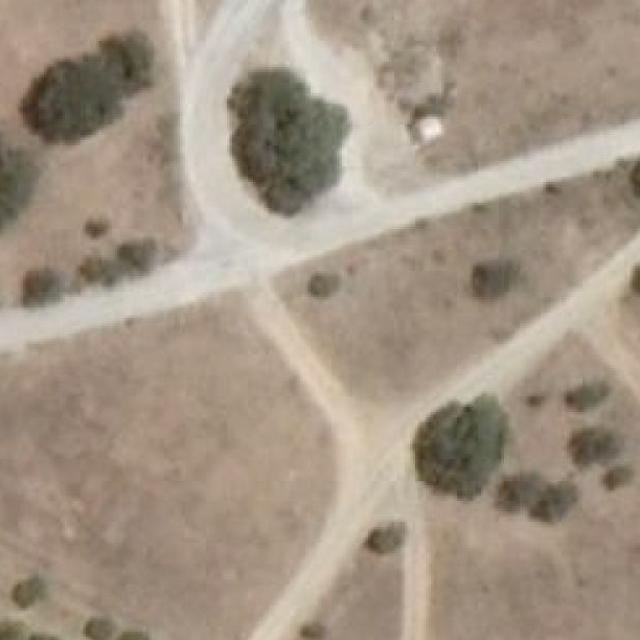Tree: (225, 72, 340, 217), (26, 62, 115, 138), (423, 410, 502, 494), (110, 30, 155, 96), (0, 135, 28, 239), (115, 234, 162, 279), (492, 469, 536, 512), (572, 428, 617, 470), (21, 266, 63, 305), (476, 260, 510, 297), (363, 527, 402, 558), (525, 496, 562, 527), (10, 577, 45, 609), (567, 383, 601, 412), (80, 255, 112, 285), (604, 459, 632, 493), (307, 271, 337, 300), (81, 616, 117, 640), (85, 214, 106, 238), (631, 152, 640, 199), (0, 621, 20, 640), (120, 629, 149, 640), (31, 631, 62, 640)
